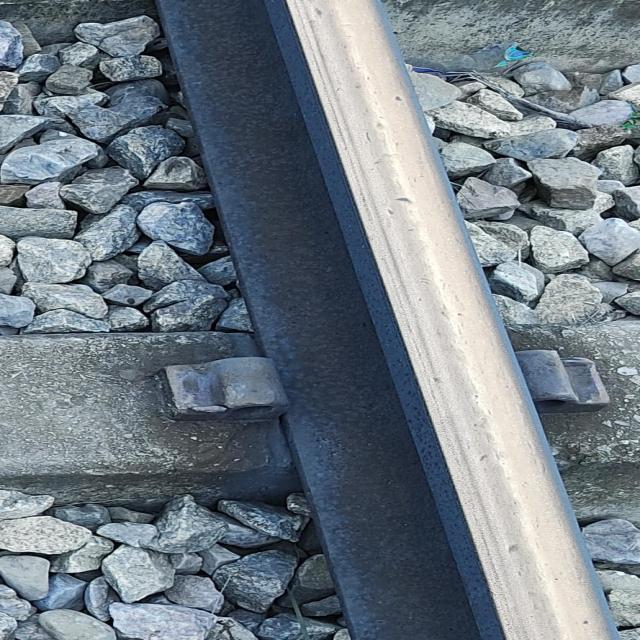Missing Fastener: (106, 345, 313, 424), (515, 350, 609, 415)
